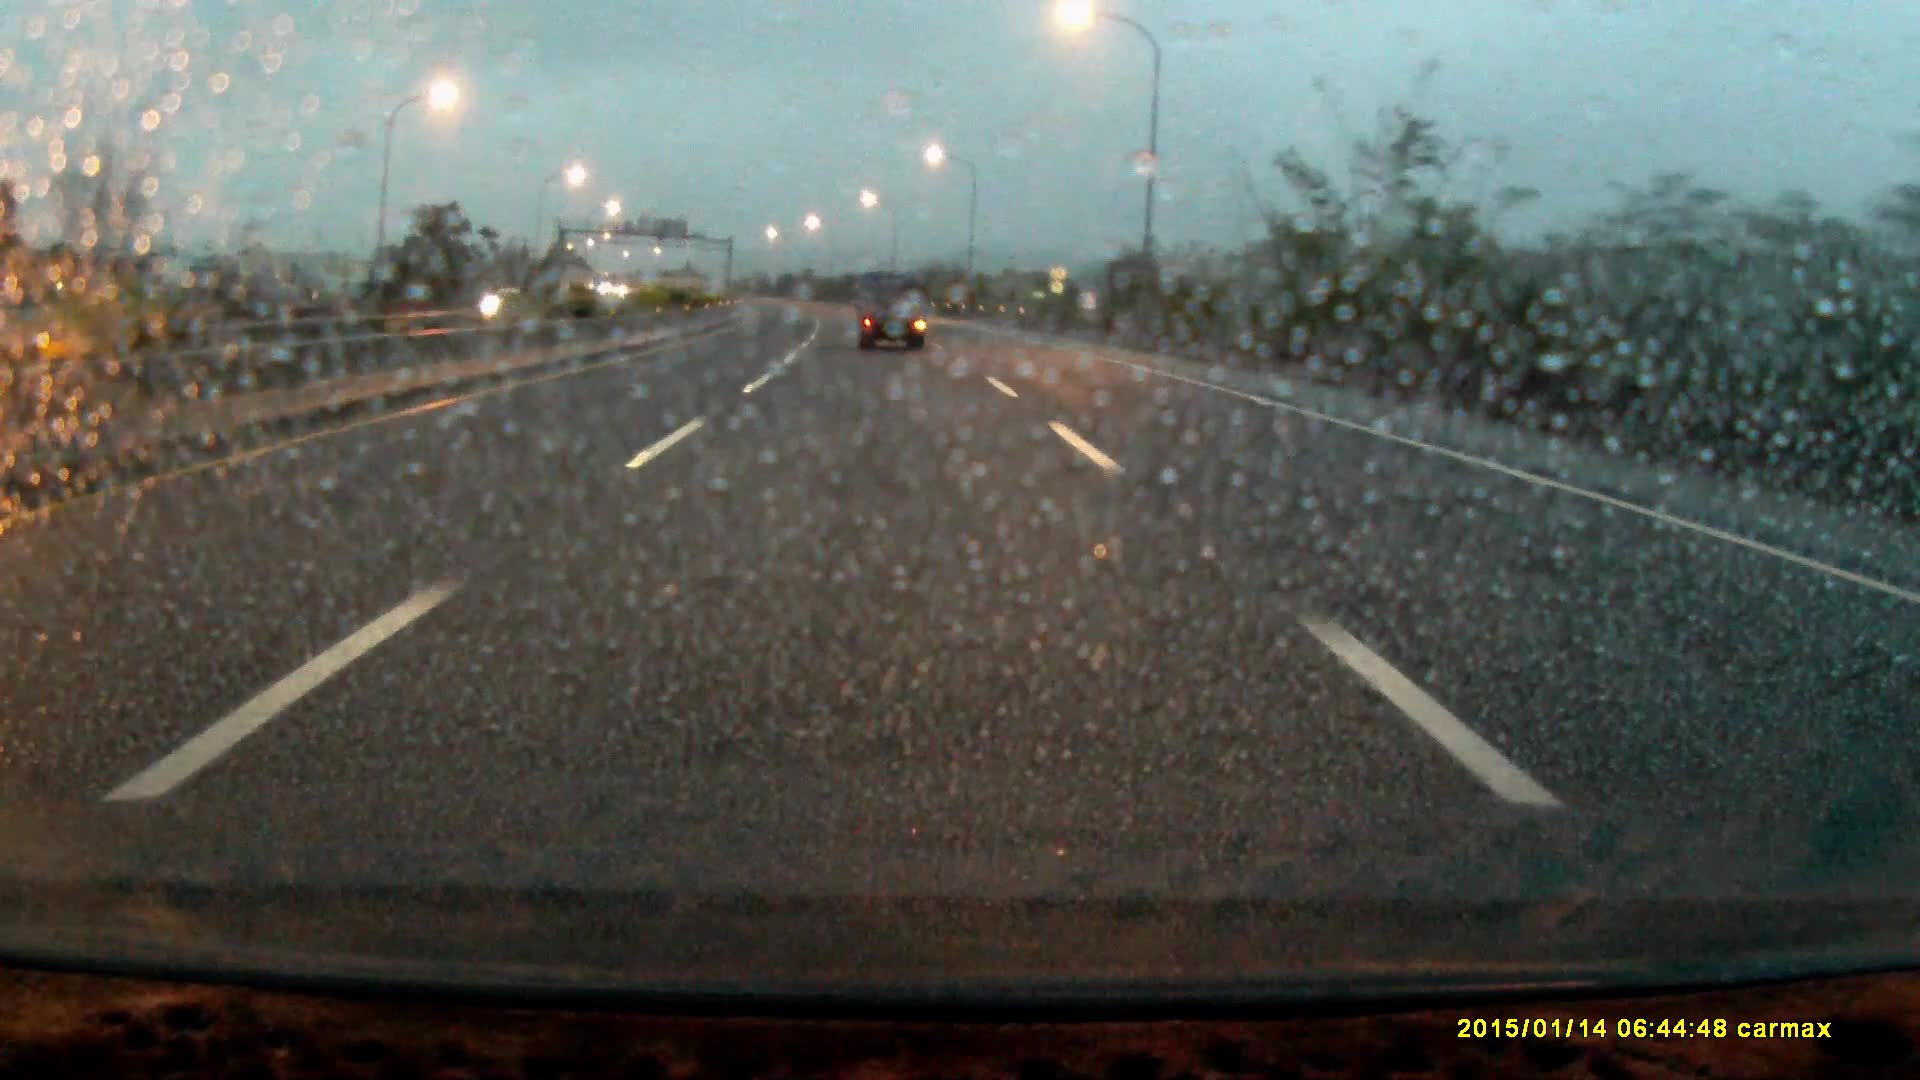vehicle: (855, 272, 927, 352), (483, 285, 546, 320)
